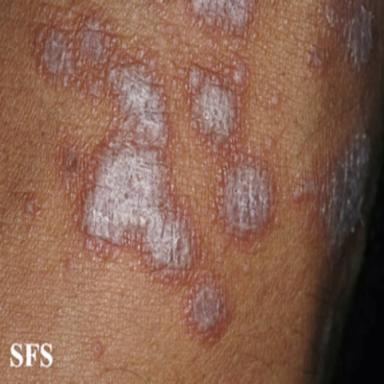lichen: (35, 3, 232, 341), (187, 55, 275, 240), (327, 133, 371, 261), (191, 0, 255, 36), (343, 4, 373, 65), (304, 37, 329, 76), (21, 193, 41, 221), (325, 0, 338, 28)
